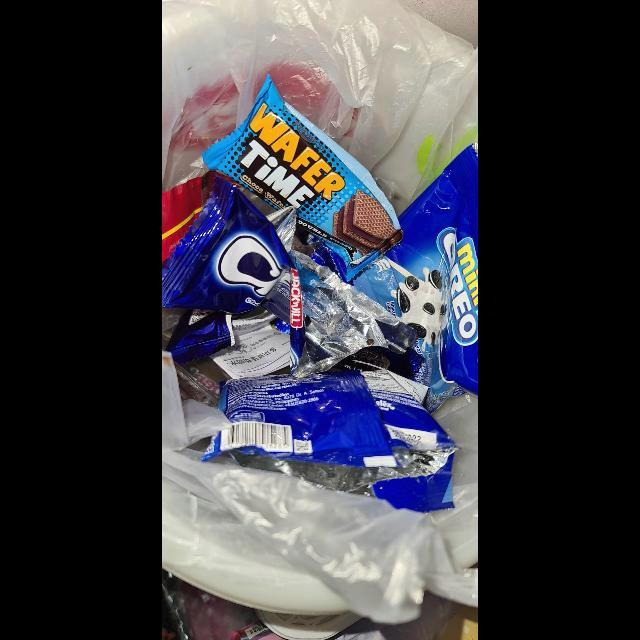food_wrapper: (162, 177, 418, 378), (202, 75, 405, 283), (200, 370, 459, 513), (346, 145, 479, 399)
